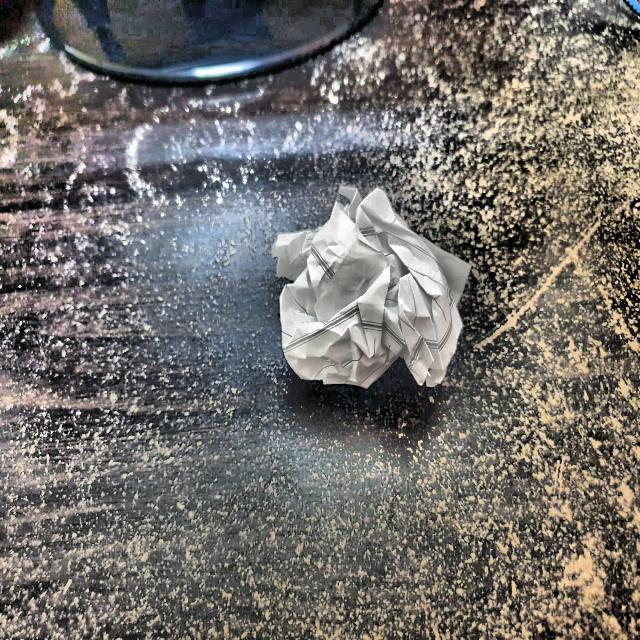Paper: (268, 176, 474, 402)
